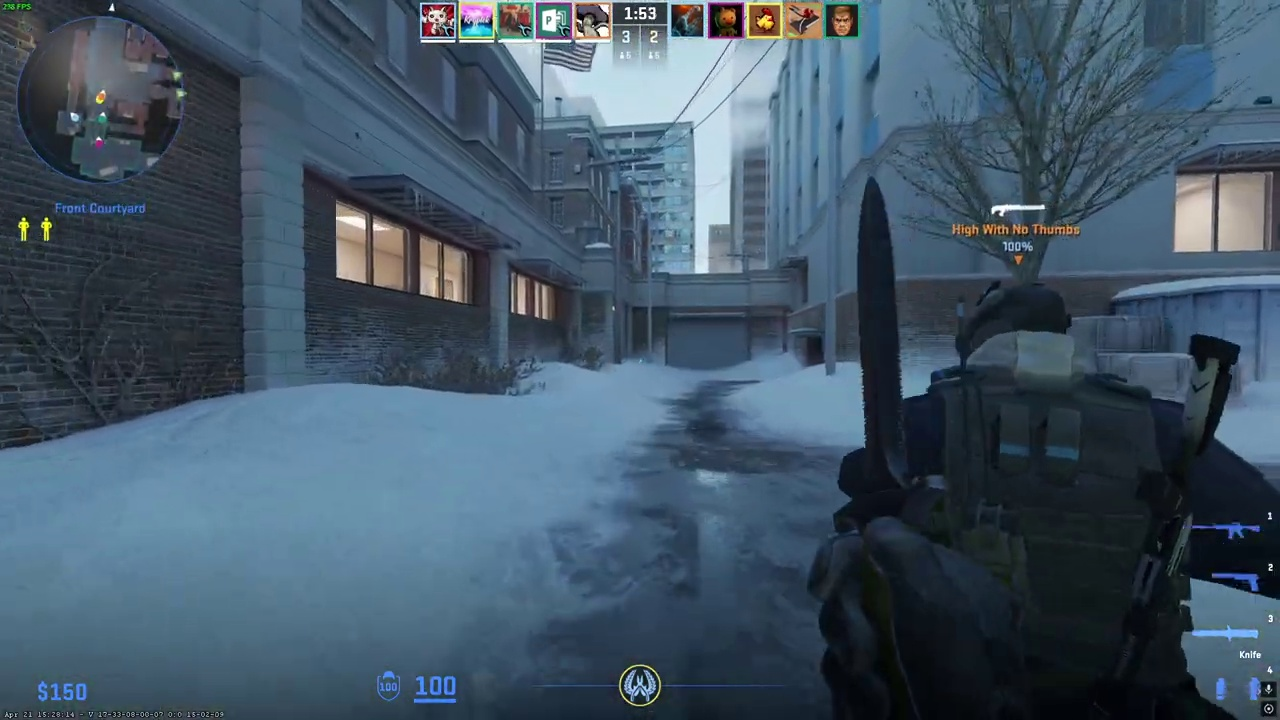CT: (880, 280, 1200, 720)
